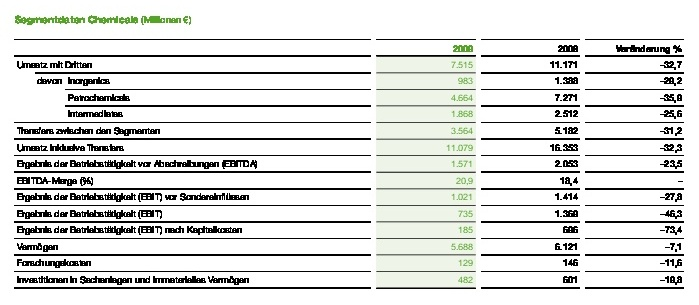table: (0, 0, 699, 305)
